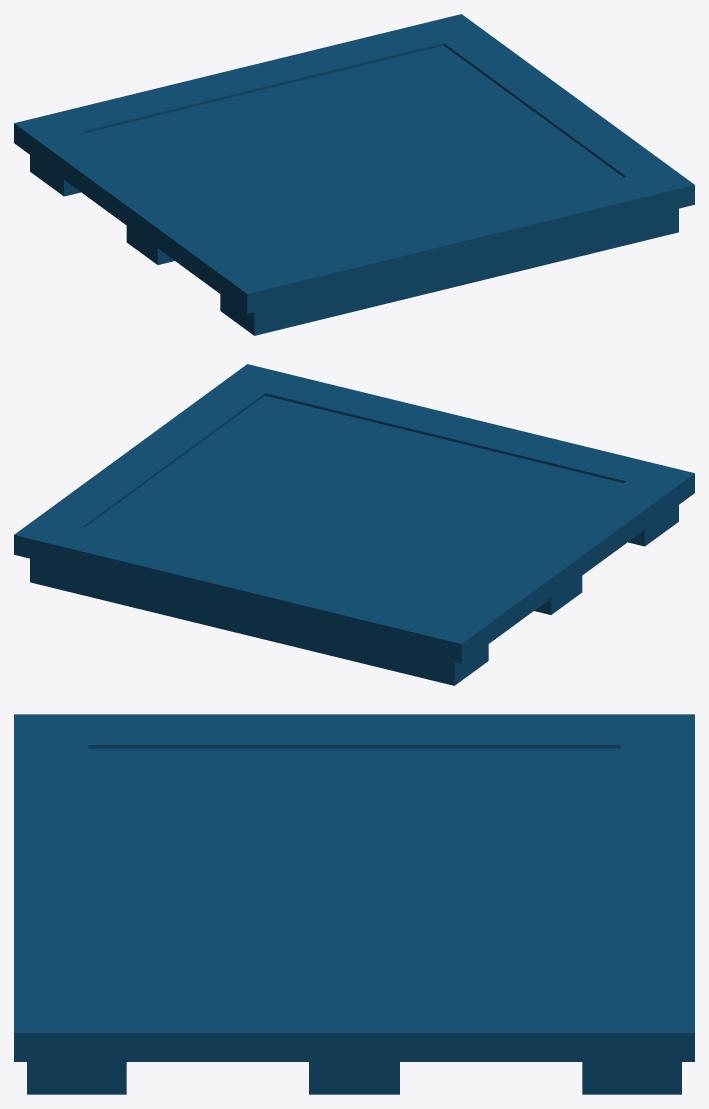
The model's file is Base Carrinho de Peso.fbx.
3 views of the same model, one above another, from view 1: azimuth 30°, elevation 25°; view 2: azimuth 150°, elevation 25°; view 3: azimuth 270°, elevation 25° (orthographic). The views are drawn at different scales.
Parts seen in each view (by area): view 1: Cubo.042; view 2: Cubo.042; view 3: Cubo.042.
Boxes of the visible parts, left/top/right/bottom form: Cubo.042: left=14, top=14, right=694, bottom=335; Cubo.042: left=14, top=364, right=694, bottom=685; Cubo.042: left=14, top=714, right=694, bottom=1094.
Bounding box in the file's own units: 549 × 56.11 × 496.
